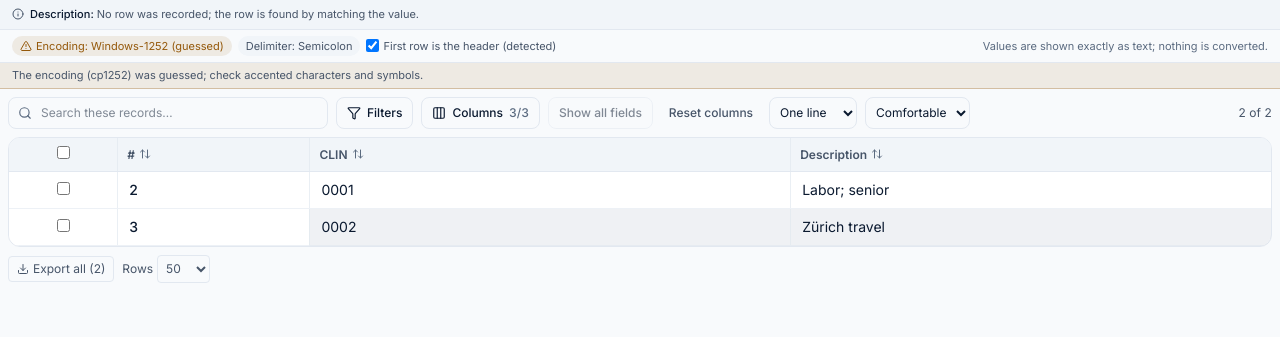
Test case: Delimited viewer › shows how the file was read, keeps text exactly, and finds the evidence row
Expected: the element with test id "delimited-provenance" shows "Encoding: Windows-1252 (guessed)", [0,30,1279,63]
Expected: the element with test id "delimited-provenance" shows "Delimiter: Semicolon", [0,30,1279,63]
# Treat the first row as data instead.
Click the checkbox labelled "First row is the header (detected)".
click(373, 46)  # box [366,39,380,52]
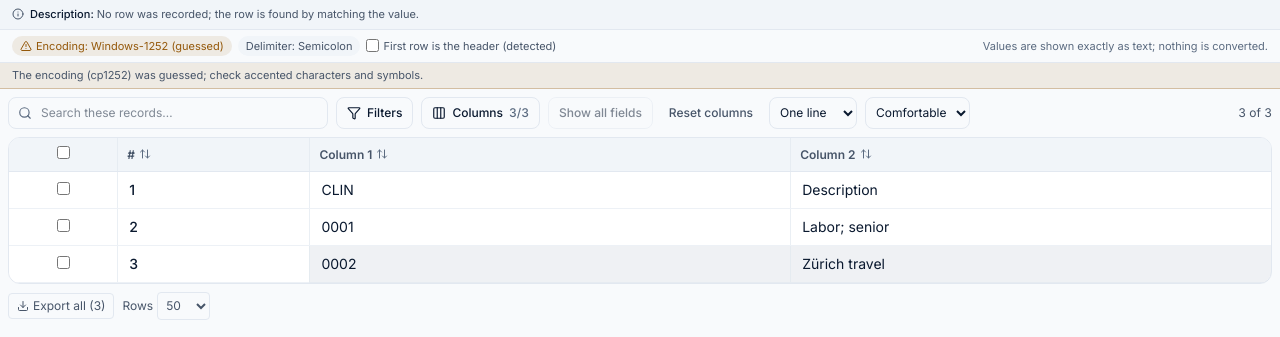
Expected: the number of rows with test id "smart-row" is 3, [9,172,1271,209]; [9,209,1271,246]; [9,246,1271,283]
